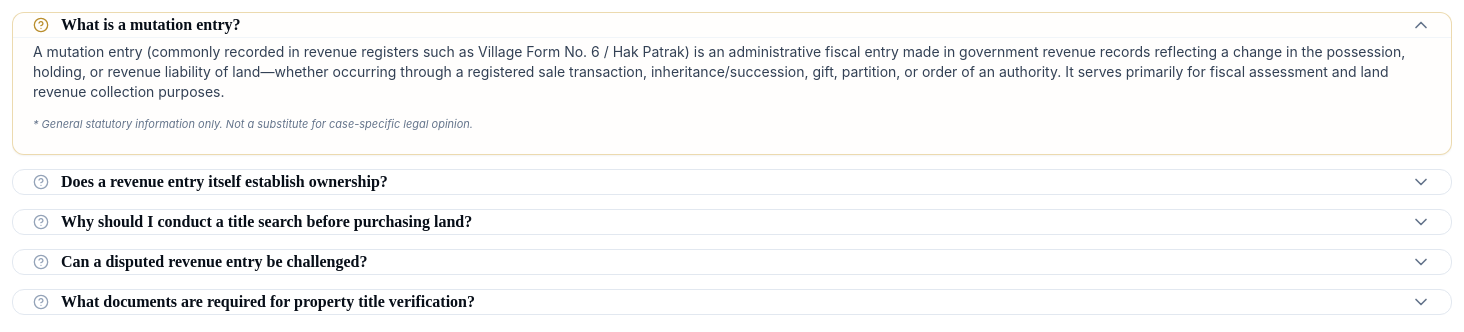
Scenario: Component Tests › renders FAQAccordion and toggles accordion items on click
Expected: the text "What is a mutation entry?" is shown, [61,13,241,37]
Expected: the text "Does a revenue entry itself establish ownership?" is shown, [61,170,388,194]
Click the button "Does a revenue entry itself establish ownership?" at (224, 182), box [13,170,1451,194]
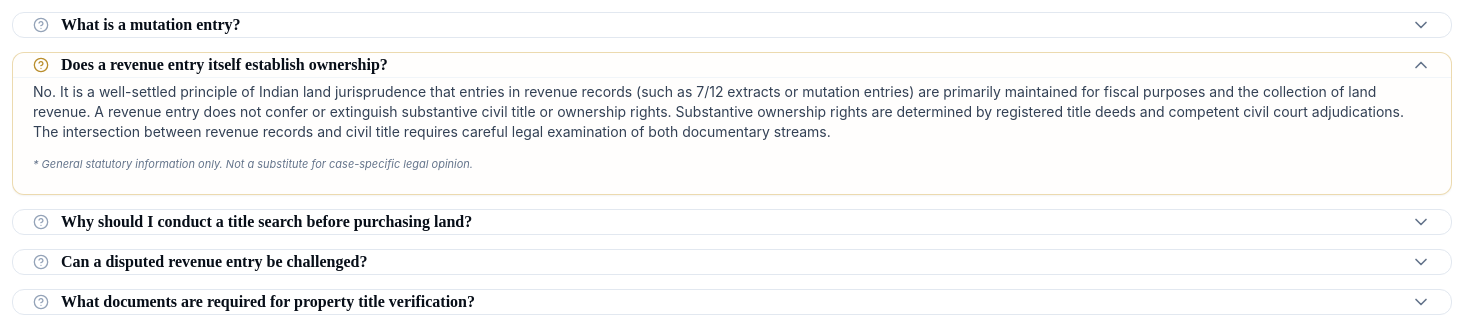
Result: the text "No. It is a well-settled principle of Indian land jurisprudence" is shown at [33,83,1404,140]
